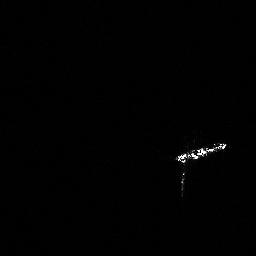ship: (171, 138, 230, 198)
